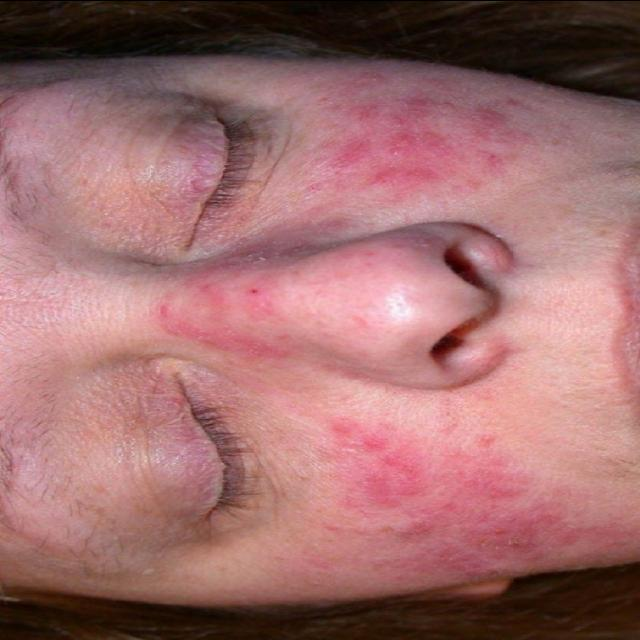Rosacea: (320, 91, 579, 563)
